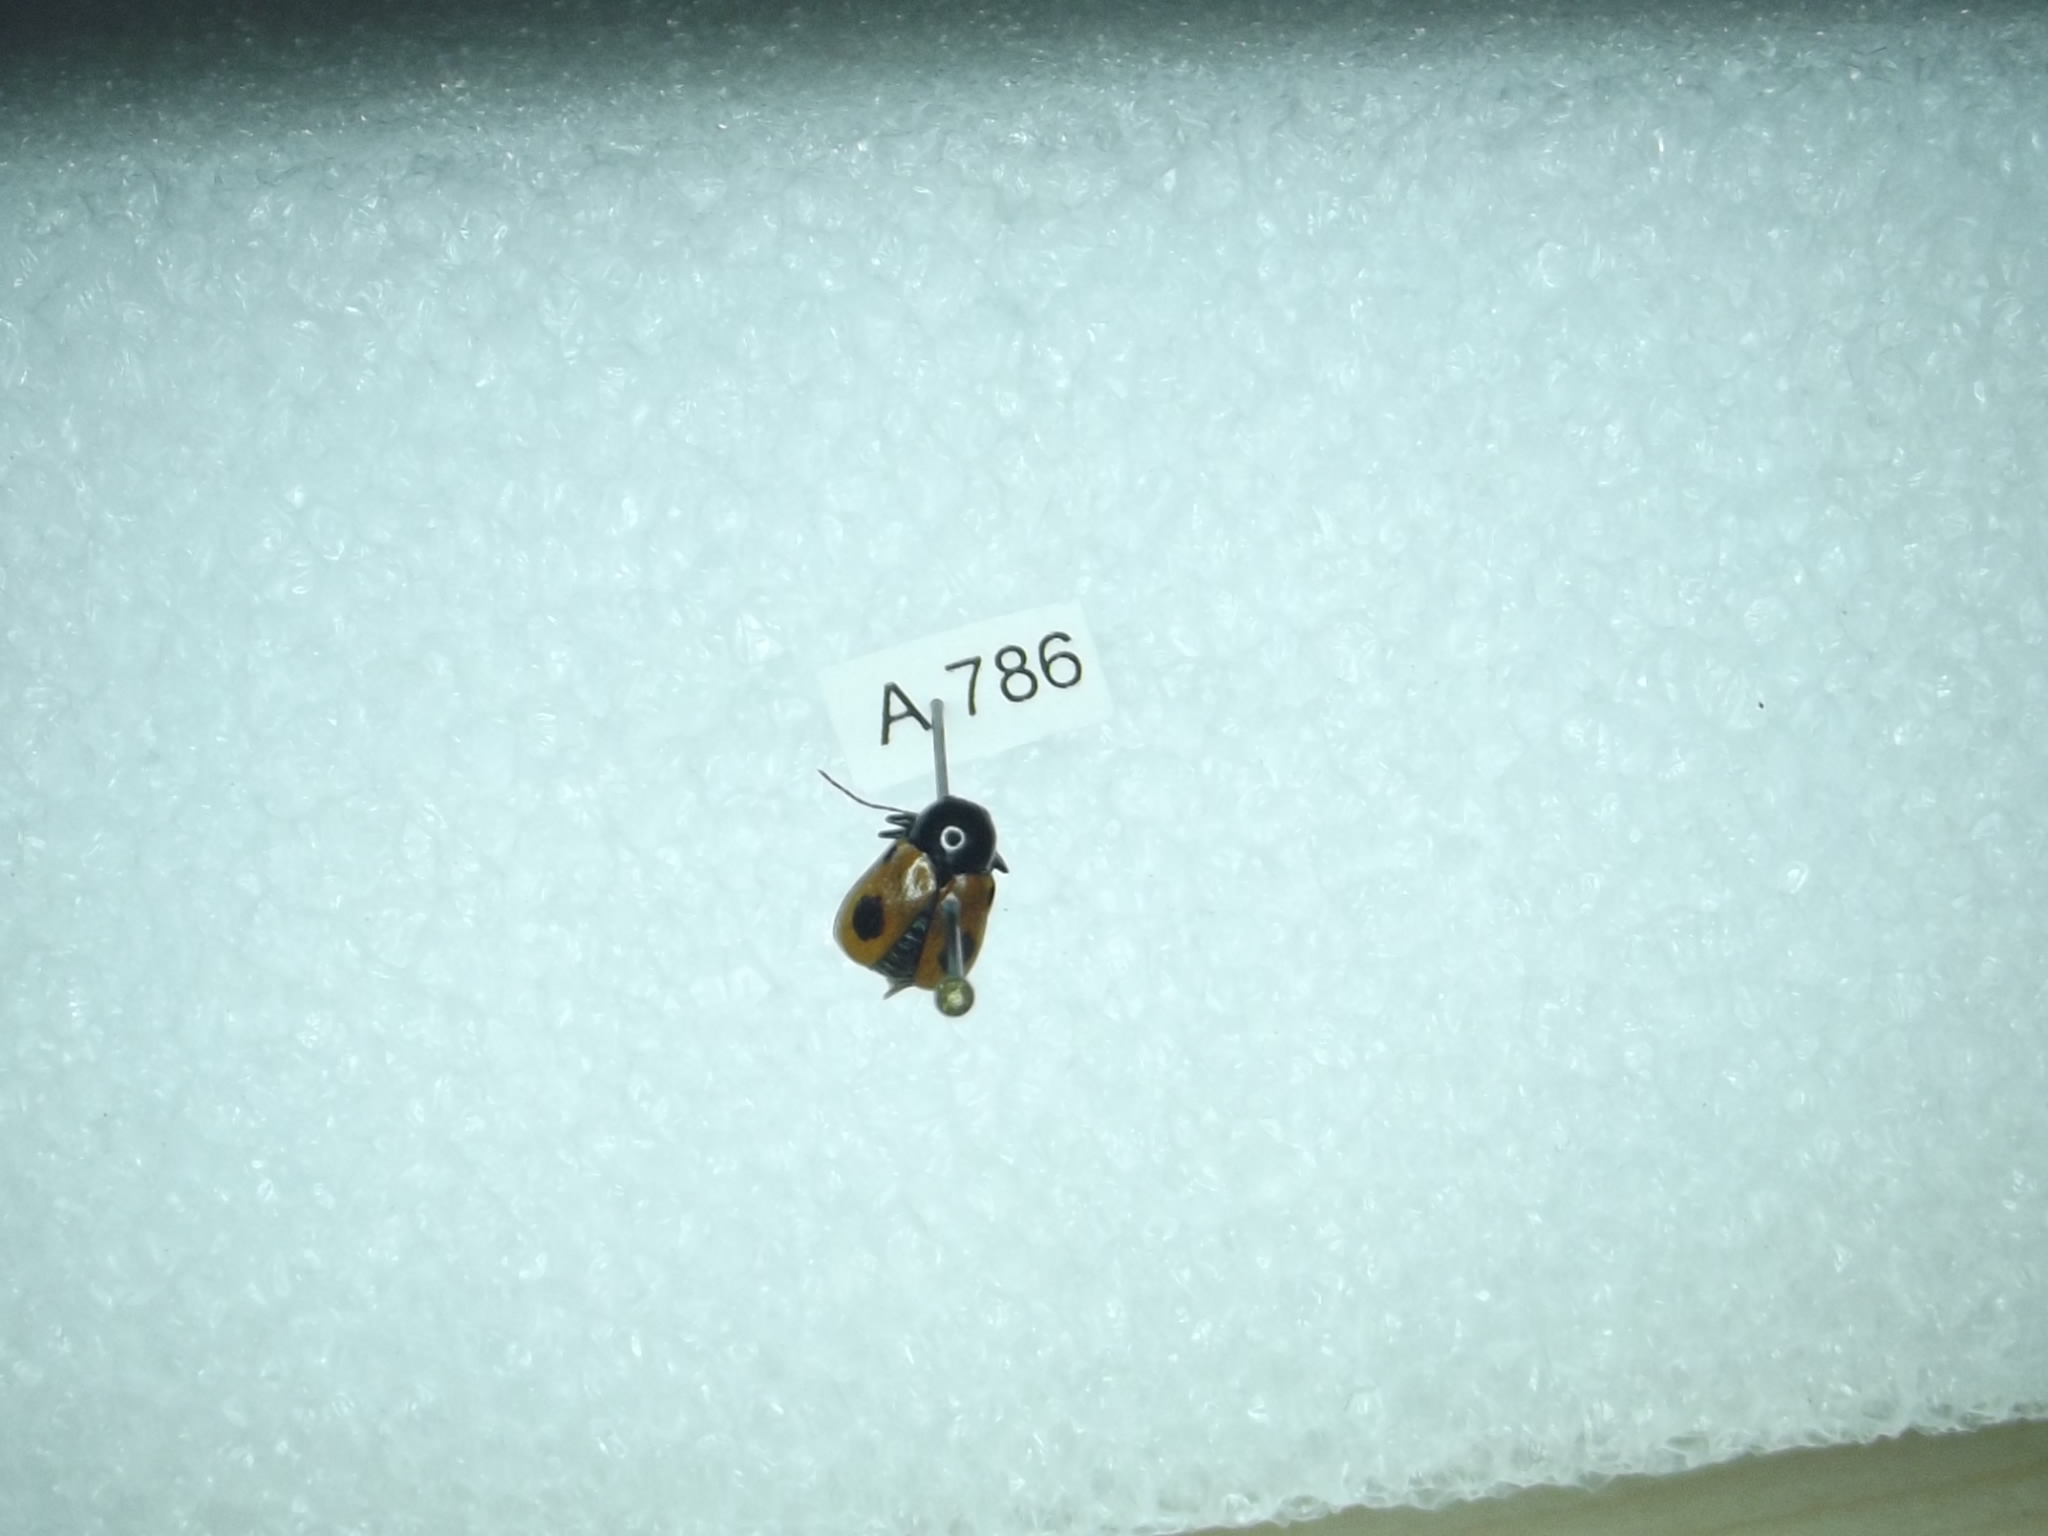Cryptocephalus_bipunctatus: (793, 762, 1018, 1008)
